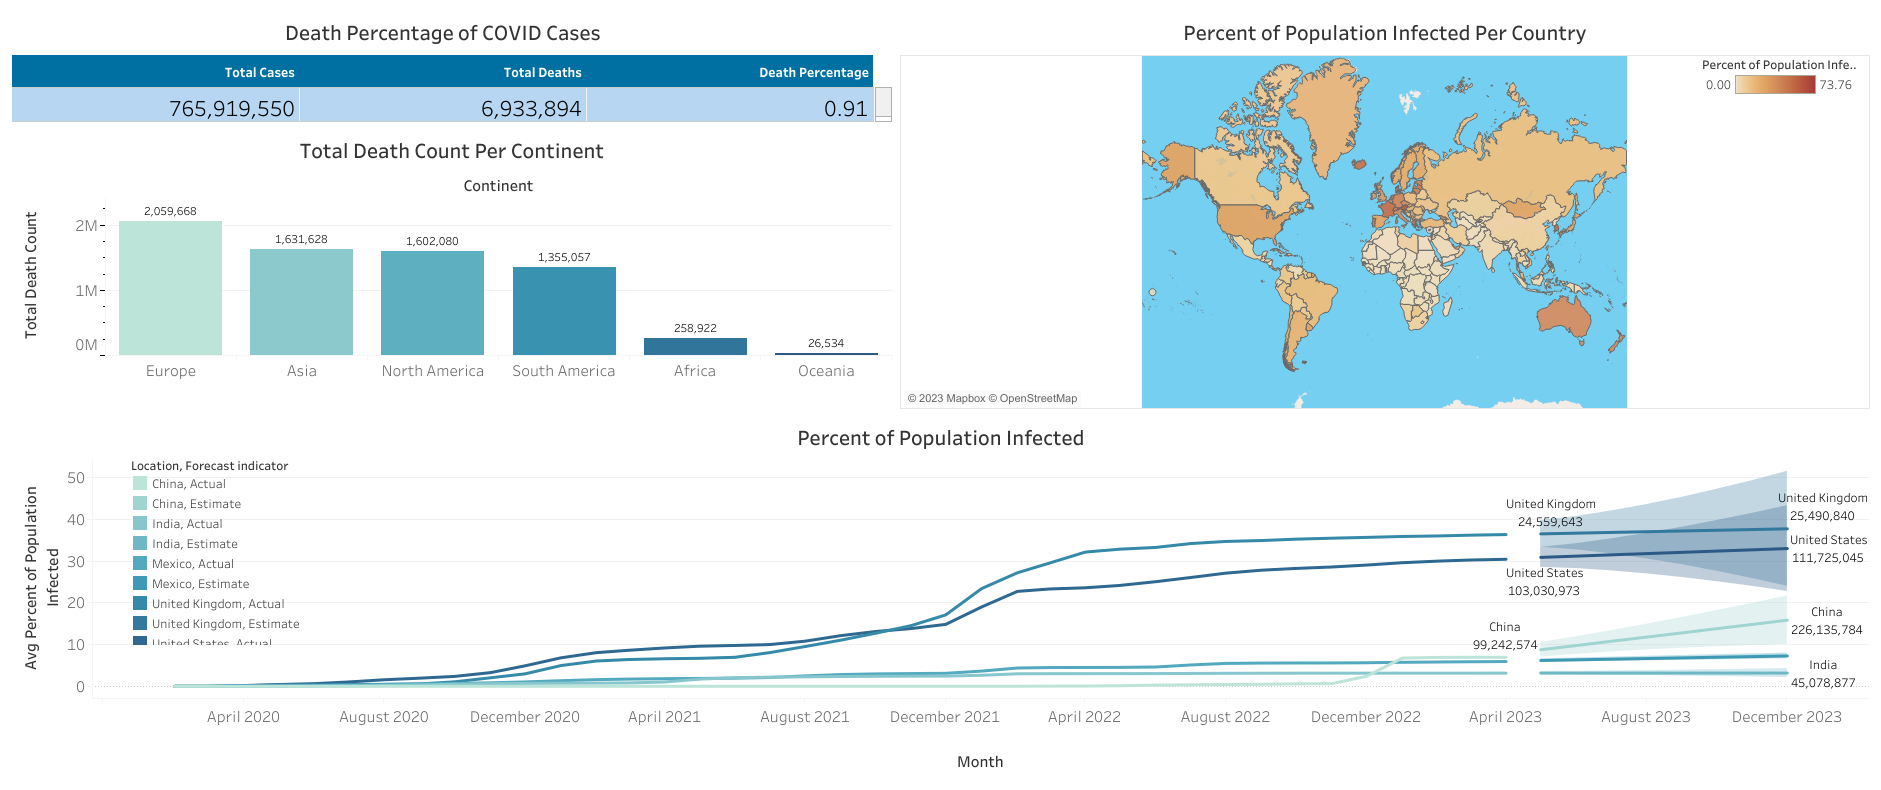

This screenshot's page, from the dashboard's own definition file:
{"tool":"tableau","page":{"name":"COVID Dashboard","canvas":[1000,1000],"units":"permille","ordinal":0},"visuals":[{"type":"worksheet","title":"Death Percentage","mark":"Automatic","box":[4.7,8.8,471.6,149.3]},{"type":"worksheet","title":"Infection Map","mark":"Automatic","box":[476.3,8.8,519,513.3]},{"type":"legend","title":"Infection Map","param":"[federated.1lphyx20zryxi110fr8560g8w0ea].[sum:CovidPercentage:qk]","box":[904.6,64.2,81.9,84.1]},{"type":"worksheet","title":"Death Count","mark":"Automatic","rows":["TotalDeathCount"],"cols":["location"],"box":[4.7,158.2,471.6,363.9]},{"type":"worksheet","title":"Infection Percentage","mark":"Automatic","rows":["CovidPercentage"],"cols":["date"],"box":[4.7,522.1,990.6,469]},{"type":"legend","title":"Infection Percentage","param":"[federated.1u4dmau0d56soz1abilk11lvp5js].[none:location:nk]\n[federated.1u4dmau0d","box":[69,574.1,101.8,241.2]}]}

Visuals, with their boxes on the dashboard's canvas, which has no fixed pixel size, in thousandths of its width and height (x1, y1, x2, y2). These are canvas units, not pixel positions in the 1881x790 screenshot, which may show the page scaled, cropped or inside an application window:
"Death Percentage" worksheet: left=5, top=9, right=476, bottom=158
"Infection Map" worksheet: left=476, top=9, right=995, bottom=522
"Infection Map" legend: left=905, top=64, right=986, bottom=148
"Death Count" worksheet: left=5, top=158, right=476, bottom=522
"Infection Percentage" worksheet: left=5, top=522, right=995, bottom=991
"Infection Percentage" legend: left=69, top=574, right=171, bottom=815
